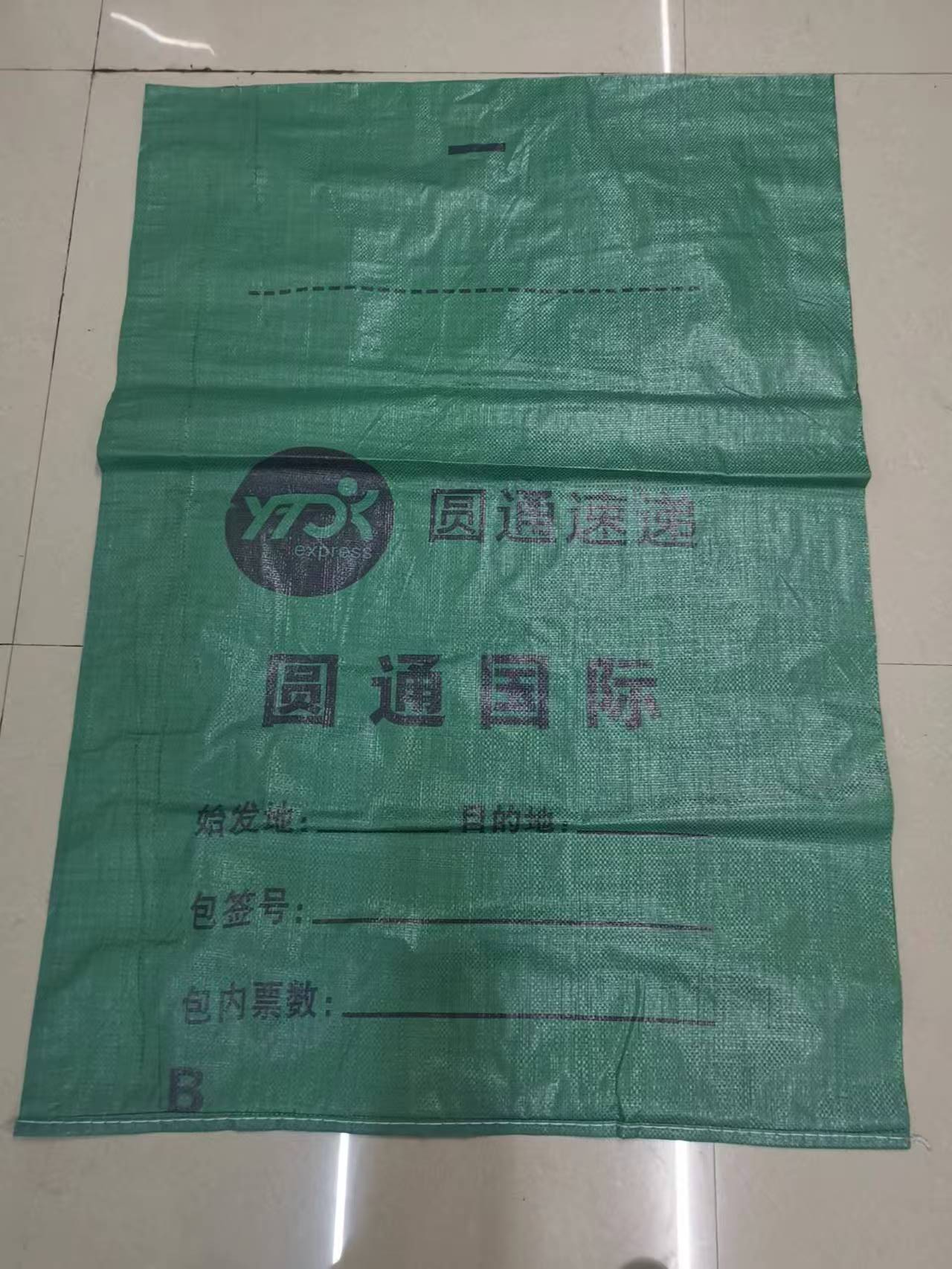塑料袋: (15, 180, 681, 1269)
